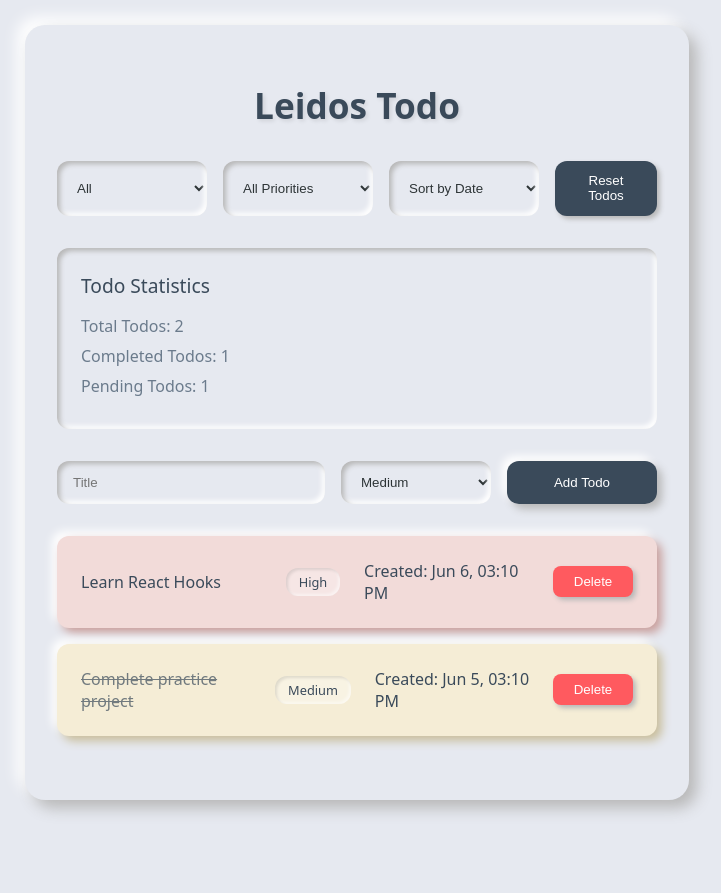
Scenario: App Component › adds a new todo when form is submitted
Type "New Test Todo" into the field with placeholder "Title" at x=191, y=482, box [57,461,325,504]
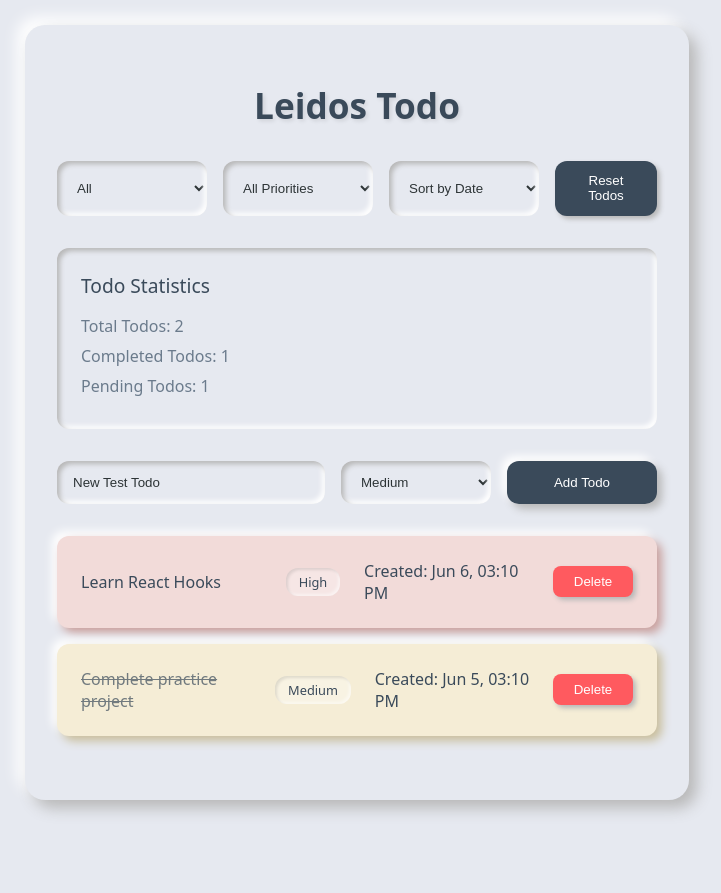
Click the button "Add Todo" at x=582, y=482, box [507,461,657,504]
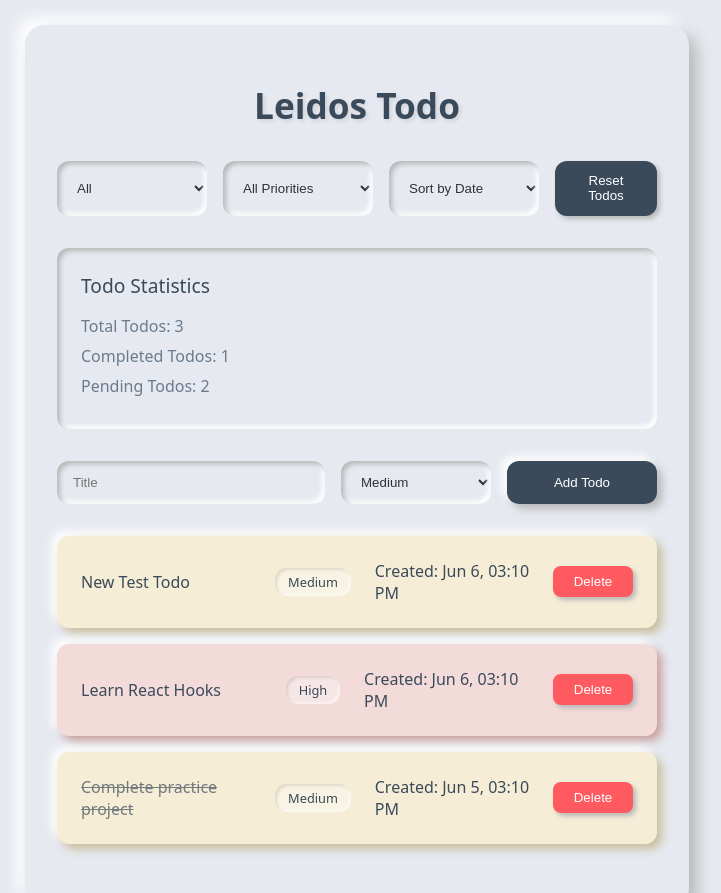
Expected: the text "New Test Todo" is shown, [81,571,190,593]
